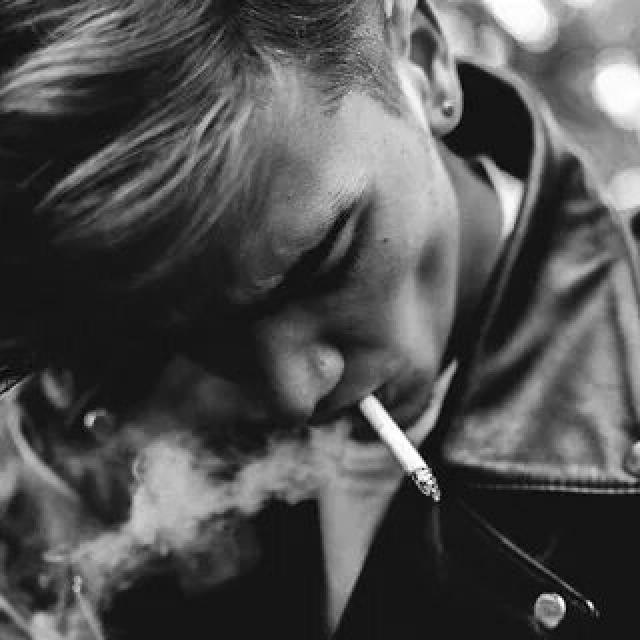cigarette: (352, 388, 446, 506)
